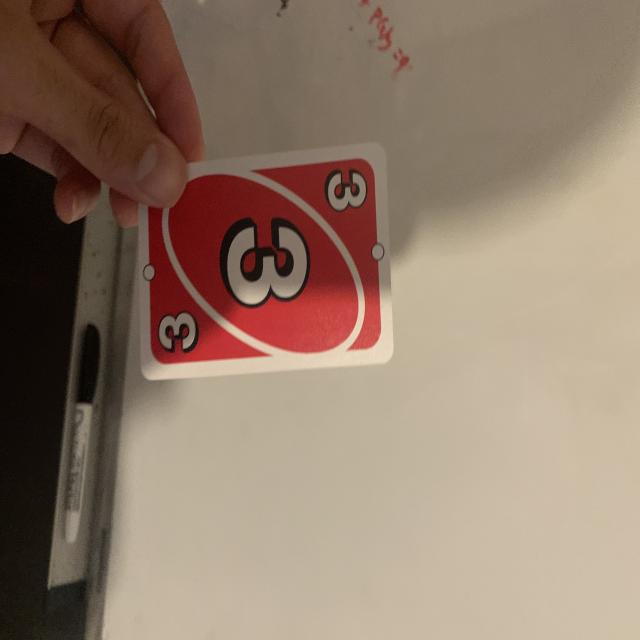lred-3: (314, 159, 374, 221)
